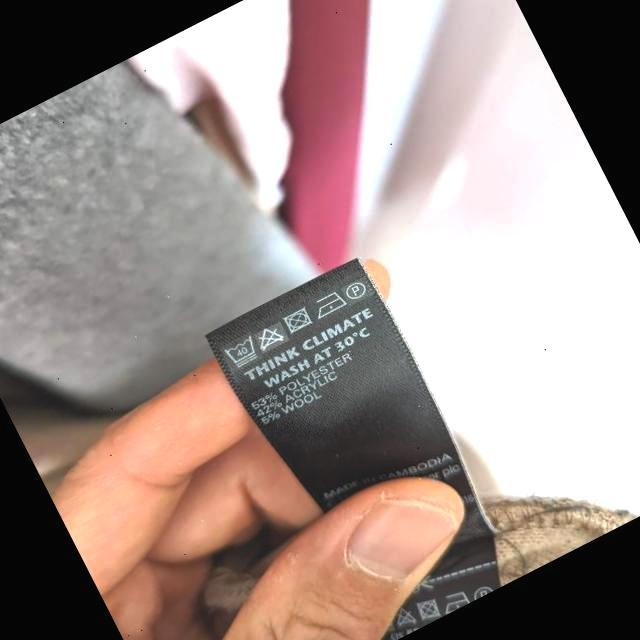40C: (227, 335, 257, 368)
DN_bleach: (260, 325, 286, 352)
DN_tumble_dry: (284, 307, 314, 335)
dry_clean_any_solvent_except_trichloroethylene: (345, 281, 367, 301)
iron_low: (315, 292, 348, 321)
